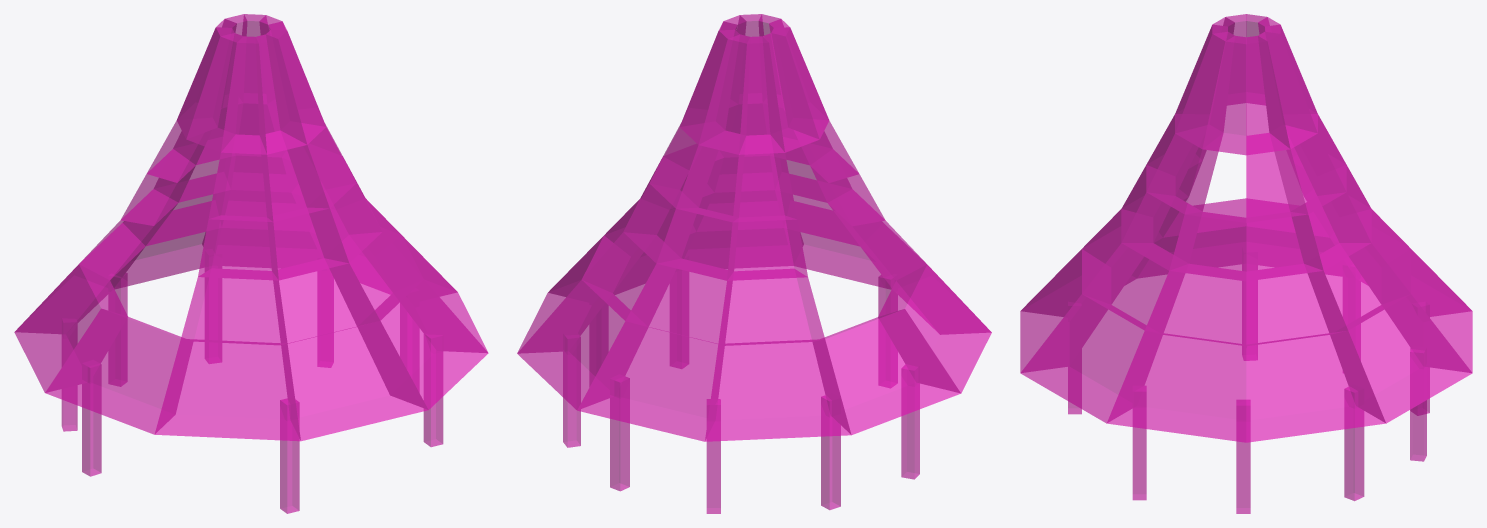
File: SM_Bld_Tower_Roof_02_Collision.fbx
The picture shows the model from 3 angles, left to right: view 1: azimuth 30°, elevation 25°; view 2: azimuth 150°, elevation 25°; view 3: azimuth 270°, elevation 25°; orthographic projection.
Visible parts, largest first — view 1: SM_Bld_Tower_Roof_02_Collision; view 2: SM_Bld_Tower_Roof_02_Collision; view 3: SM_Bld_Tower_Roof_02_Collision.
Boxes of the visible parts, bbox=[...] form: SM_Bld_Tower_Roof_02_Collision: bbox=[14, 14, 488, 513]; SM_Bld_Tower_Roof_02_Collision: bbox=[517, 14, 991, 513]; SM_Bld_Tower_Roof_02_Collision: bbox=[1020, 14, 1472, 513].
Size of the model in its own units: 1072 by 1008 by 1019.
